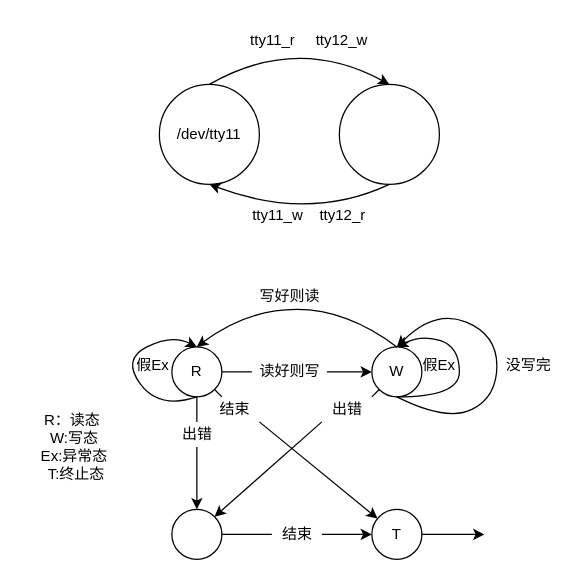
Some shapes in this 580 by 581 pixel diagram are drawn without their labels. The centre of each missing label's shape, as x and y in pixels:
/dev/tty12: [388,133]
Ex: [196,533]
